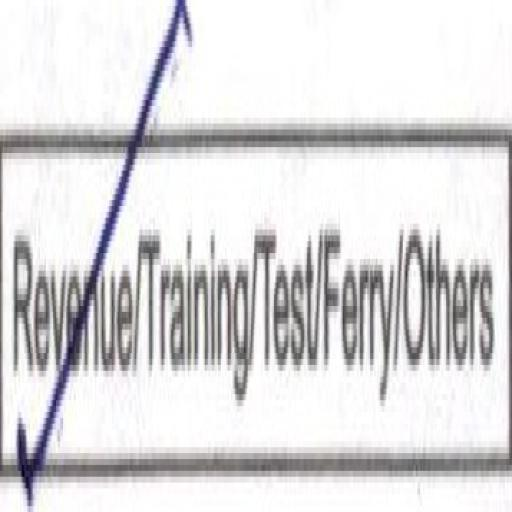check: (3, 53, 139, 512)
